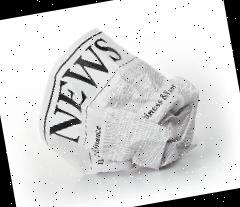paper: (22, 11, 210, 188)
